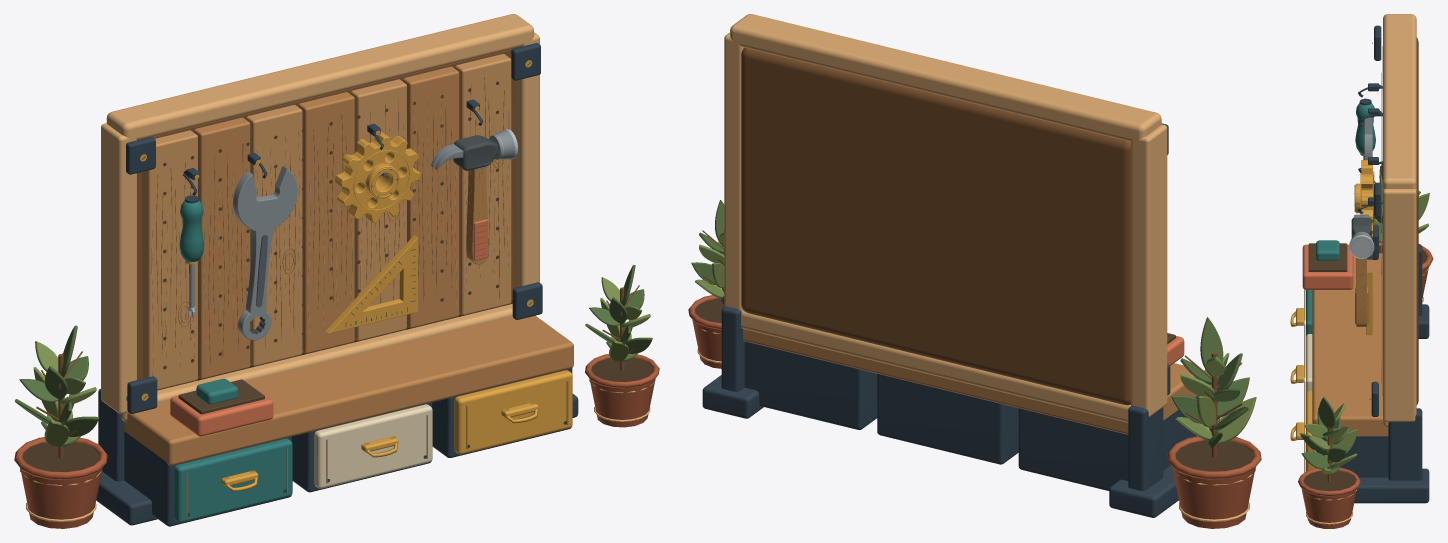
Rendered from workshop-tool-rack-seated.glb.
3 renders of one model, left to right at view 1: azimuth 30°, elevation 25°; view 2: azimuth 150°, elevation 25°; view 3: azimuth 270°, elevation 25°, orthographic. The views are drawn at different scales.
Visible parts, largest first — view 1: timber, plank, edge, navy, brass, teal, cream, grain, brass_1, pot, steel_1, darkWood (+10 smaller); view 2: darkWood, edge, navy, timber, pot, soil, pot_1, Leaf_8, Leaf_1; view 3: edge, timber, navy, pot_1, coral, darkWood, brass, brass_1, teal, soil_1, Wood_Handle, shadow (+17 smaller).
Part boxes in pixels (x1=…): timber: x1=124, y1=66, x2=573, y2=465; plank: x1=142, y1=54, x2=511, y2=389; edge: x1=101, y1=14, x2=539, y2=421; navy: x1=96, y1=43, x2=578, y2=526; brass: x1=140, y1=60, x2=572, y2=491; teal: x1=174, y1=378, x2=292, y2=522; cream: x1=314, y1=404, x2=432, y2=488; grain: x1=156, y1=77, x2=568, y2=517; brass_1: x1=335, y1=132, x2=420, y2=222; pot: x1=14, y1=437, x2=107, y2=528; steel_1: x1=233, y1=166, x2=297, y2=340; darkWood: x1=137, y1=49, x2=532, y2=398; darkWood: x1=741, y1=47, x2=1130, y2=405; edge: x1=724, y1=14, x2=1167, y2=422; navy: x1=702, y1=123, x2=1199, y2=517; timber: x1=743, y1=329, x2=1197, y2=434; pot: x1=1167, y1=436, x2=1261, y2=528; soil: x1=1175, y1=440, x2=1253, y2=471; pot_1: x1=688, y1=295, x2=721, y2=368; Leaf_8: x1=1200, y1=317, x2=1223, y2=377; Leaf_1: x1=1217, y1=397, x2=1256, y2=443; edge: x1=1383, y1=14, x2=1416, y2=427; timber: x1=1312, y1=68, x2=1388, y2=436; navy: x1=1315, y1=25, x2=1429, y2=503; pot_1: x1=1298, y1=467, x2=1360, y2=528; coral: x1=1302, y1=244, x2=1353, y2=289; darkWood: x1=1369, y1=37, x2=1418, y2=404; brass: x1=1290, y1=308, x2=1314, y2=471; brass_1: x1=1354, y1=160, x2=1374, y2=237; teal: x1=1306, y1=240, x2=1339, y2=335; soil_1: x1=1303, y1=470, x2=1355, y2=490; Wood_Handle: x1=1356, y1=258, x2=1366, y2=326; shadow: x1=1308, y1=243, x2=1347, y2=271.
Size of the model in its own units: 2.04 by 1.25 by 0.5082.
